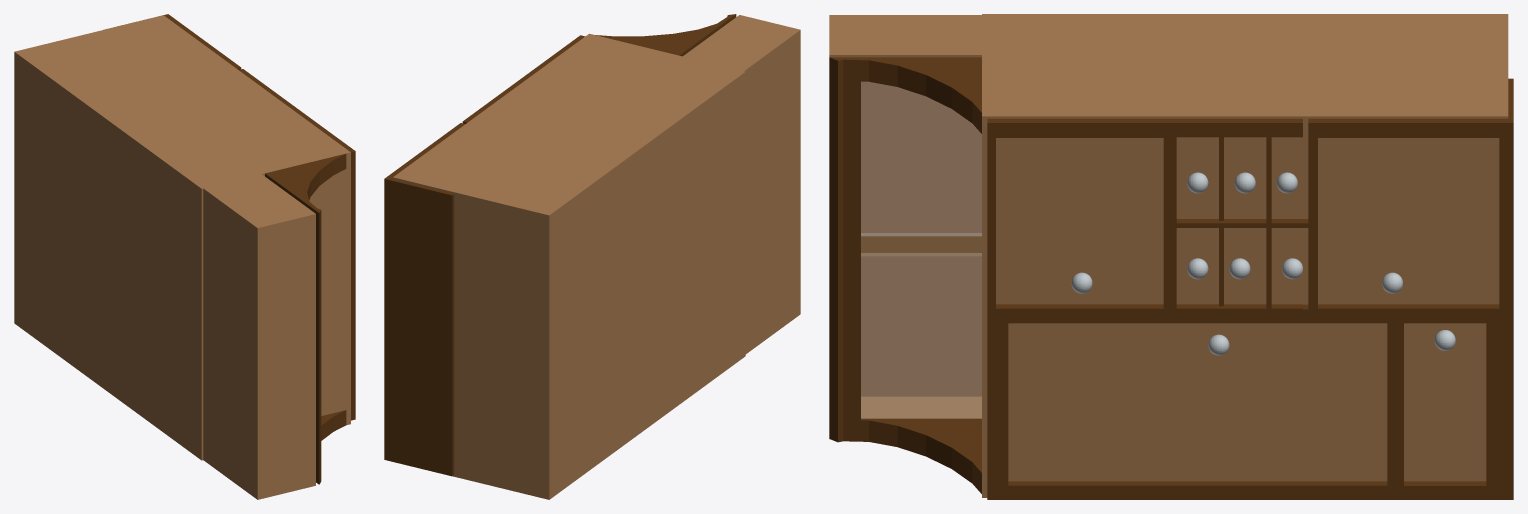
The model's file is tinker.obj.
3 views of the same model, side by side, from view 1: azimuth 30°, elevation 25°; view 2: azimuth 150°, elevation 25°; view 3: azimuth 270°, elevation 25° (orthographic). The views are drawn at different scales.
Parts seen in each view (by area): view 1: group_0_11107152, group_0_6306067; view 2: group_0_11107152, group_0_6306067; view 3: group_0_11107152, group_0_6306067, group_0_-1023739142, group_0_12568524.
Boxes of the visible parts, left/top/right/bottom form: group_0_11107152: left=14, top=15, right=350, bottom=499; group_0_6306067: left=103, top=14, right=355, bottom=484; group_0_11107152: left=393, top=15, right=800, bottom=499; group_0_6306067: left=384, top=14, right=736, bottom=476; group_0_11107152: left=829, top=14, right=1508, bottom=497; group_0_6306067: left=829, top=57, right=1513, bottom=499; group_0_-1023739142: left=861, top=82, right=981, bottom=418; group_0_12568524: left=1071, top=172, right=1455, bottom=355.
Bounding box in the file's own units: 49 × 80 × 130.
